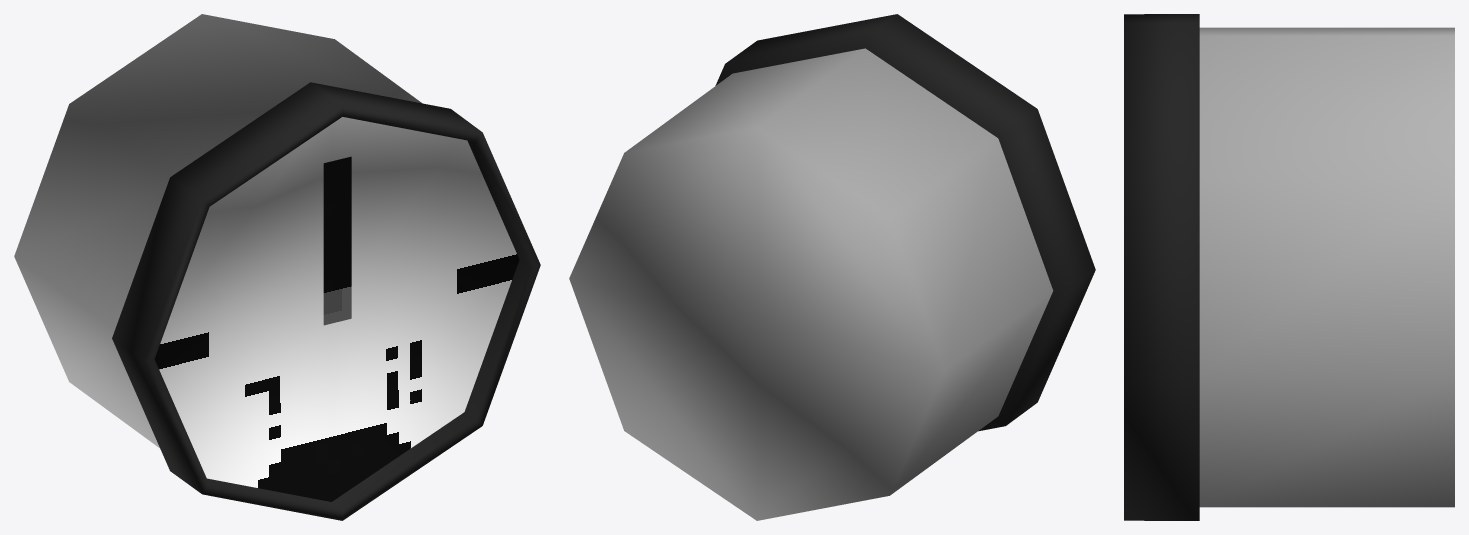
Rendered from gauge.glb.
3 renders of one model, left to right at view 1: azimuth 30°, elevation 25°; view 2: azimuth 150°, elevation 25°; view 3: azimuth 270°, elevation 25°, orthographic. The views are drawn at different scales.
Visible parts, largest first — view 1: Base, Pointer; view 2: Base; view 3: Base.
Boxes of the visible parts, x1,y1,x2,y2 form: Base: (14,14,540,520); Pointer: (323,156,351,325); Base: (569,14,1095,520); Base: (1124,14,1454,520).
Size of the model in its own units: 0.0423 by 0.0423 by 0.0259.
1 material, 1 textured.
